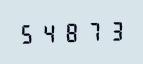eight: (60, 20, 80, 43)
five: (18, 21, 38, 45)
four: (39, 21, 59, 44)
seven: (81, 19, 101, 42)
three: (102, 18, 122, 42)
